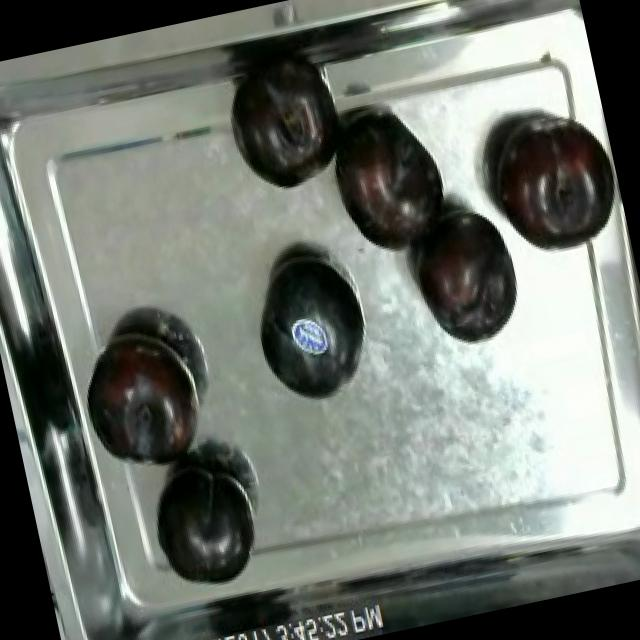Fruit: (236, 238, 383, 420), (472, 97, 624, 266), (68, 314, 214, 484), (318, 94, 461, 266), (399, 190, 531, 352), (139, 446, 269, 601), (224, 64, 344, 200)
